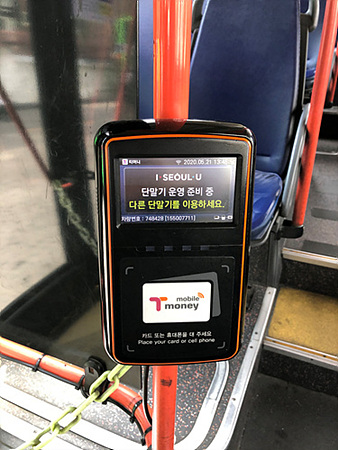terminal: (98, 122, 245, 359)
